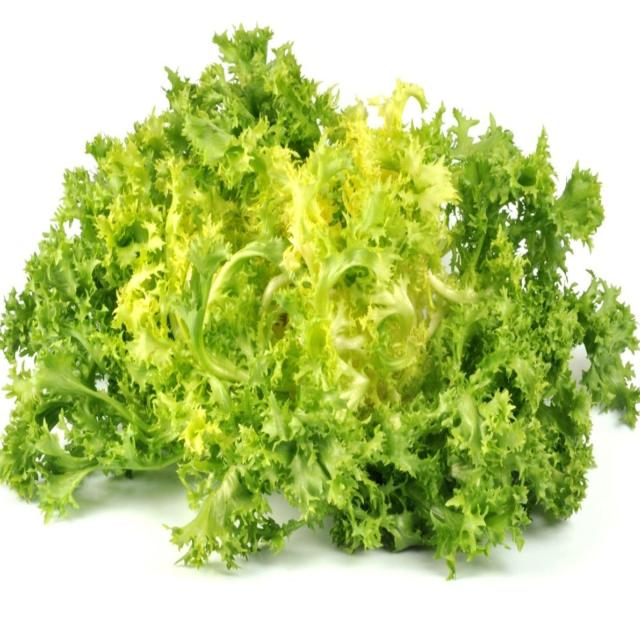lista_para_cosechar: (0, 29, 640, 577)
